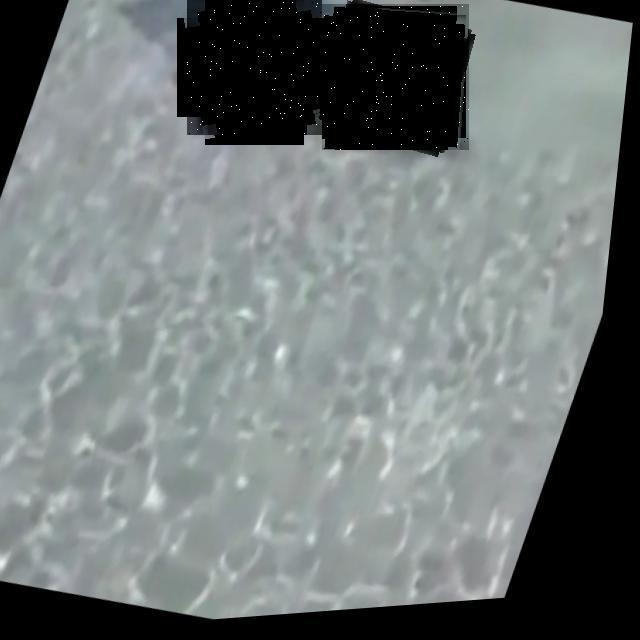swimming: (322, 4, 469, 150), (187, 0, 322, 135)
